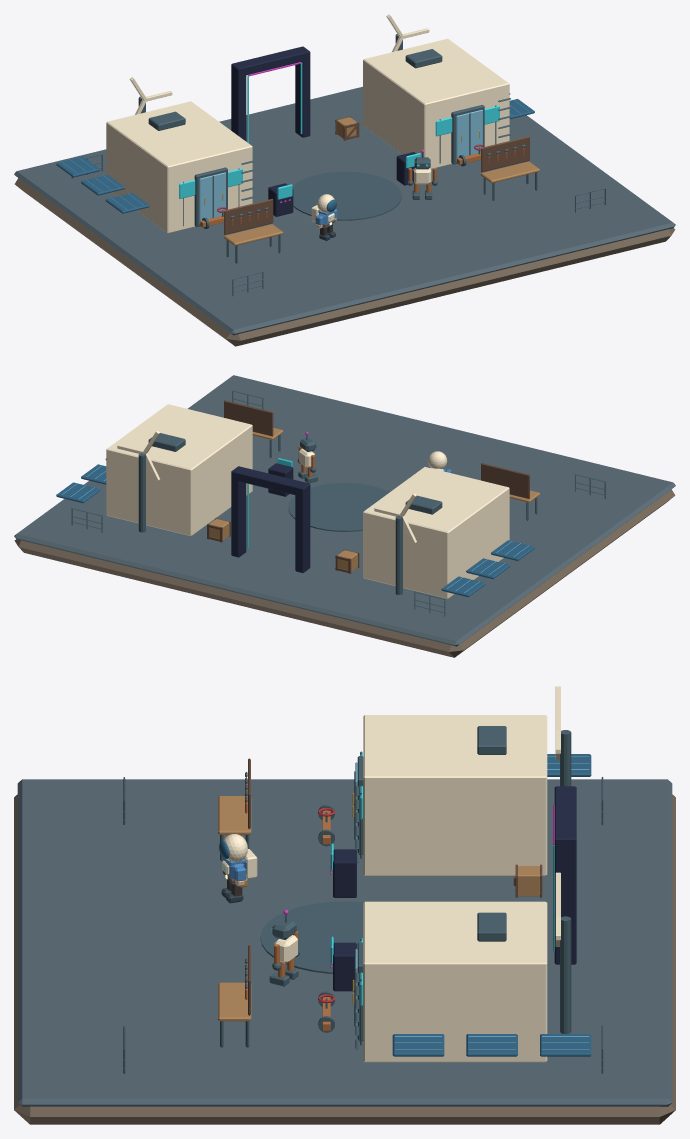
File: world-space.glb
3 views of the same model, one above another, from view 1: azimuth 30°, elevation 25°; view 2: azimuth 150°, elevation 25°; view 3: azimuth 270°, elevation 25° (orthographic). The views are drawn at different scales.
Visible parts, largest first — view 1: terrain-top, habitat.001, habitat, terrain-stratum, landing-pad, pegboard.001, pegboard.002, portal-lintel.001, portal-pillar.003, airlock-door.001, airlock-door, portal-pillar.002 (+12 smaller); view 2: terrain-top, habitat.001, habitat, terrain-stratum, landing-pad, portal-pillar.002, portal-pillar.003, portal-lintel.001, pegboard.002, pegboard.001, mast.002, mast.001 (+6 smaller); view 3: terrain-top, habitat, habitat.001, terrain-stratum, landing-pad, portal-pillar.003, portal-lintel.001, mast.002, bench-top.002, solar-panel.003, solar-panel.005, solar-panel.004 (+8 smaller).
Part boxes in pixels (x1,y1,x2,y2): terrain-top: [14, 86, 675, 335]; habitat.001: [363, 38, 509, 168]; habitat: [106, 101, 252, 233]; terrain-stratum: [14, 178, 675, 346]; landing-pad: [292, 171, 401, 220]; pegboard.001: [224, 199, 273, 234]; pegboard.002: [481, 136, 529, 172]; portal-lintel.001: [231, 46, 310, 76]; portal-pillar.003: [295, 57, 310, 137]; airlock-door.001: [456, 110, 482, 161]; airlock-door: [199, 172, 225, 223]; portal-pillar.002: [231, 69, 246, 141]; terrain-top: [14, 375, 675, 646]; habitat.001: [106, 404, 252, 535]; habitat: [363, 467, 509, 598]; terrain-stratum: [14, 489, 675, 657]; landing-pad: [288, 483, 389, 531]; portal-pillar.002: [295, 489, 310, 572]; portal-pillar.003: [231, 476, 246, 557]; portal-lintel.001: [231, 466, 310, 496]; pegboard.002: [224, 400, 273, 436]; pegboard.001: [481, 463, 529, 498]; mast.002: [138, 453, 145, 532]; mast.001: [395, 516, 402, 594]; terrain-top: [17, 779, 672, 1106]; habitat: [363, 715, 547, 875]; habitat.001: [363, 901, 547, 1062]; terrain-stratum: [14, 794, 675, 1124]; landing-pad: [260, 901, 363, 973]; portal-pillar.003: [554, 846, 576, 964]; portal-lintel.001: [554, 786, 576, 850]; mast.002: [560, 916, 571, 1033]; bench-top.002: [218, 982, 251, 1021]; solar-panel.003: [392, 1034, 444, 1056]; solar-panel.005: [540, 1034, 591, 1056]; solar-panel.004: [466, 1034, 517, 1056].
Bounding box in the file's own units: 21 × 5.4 × 18.
